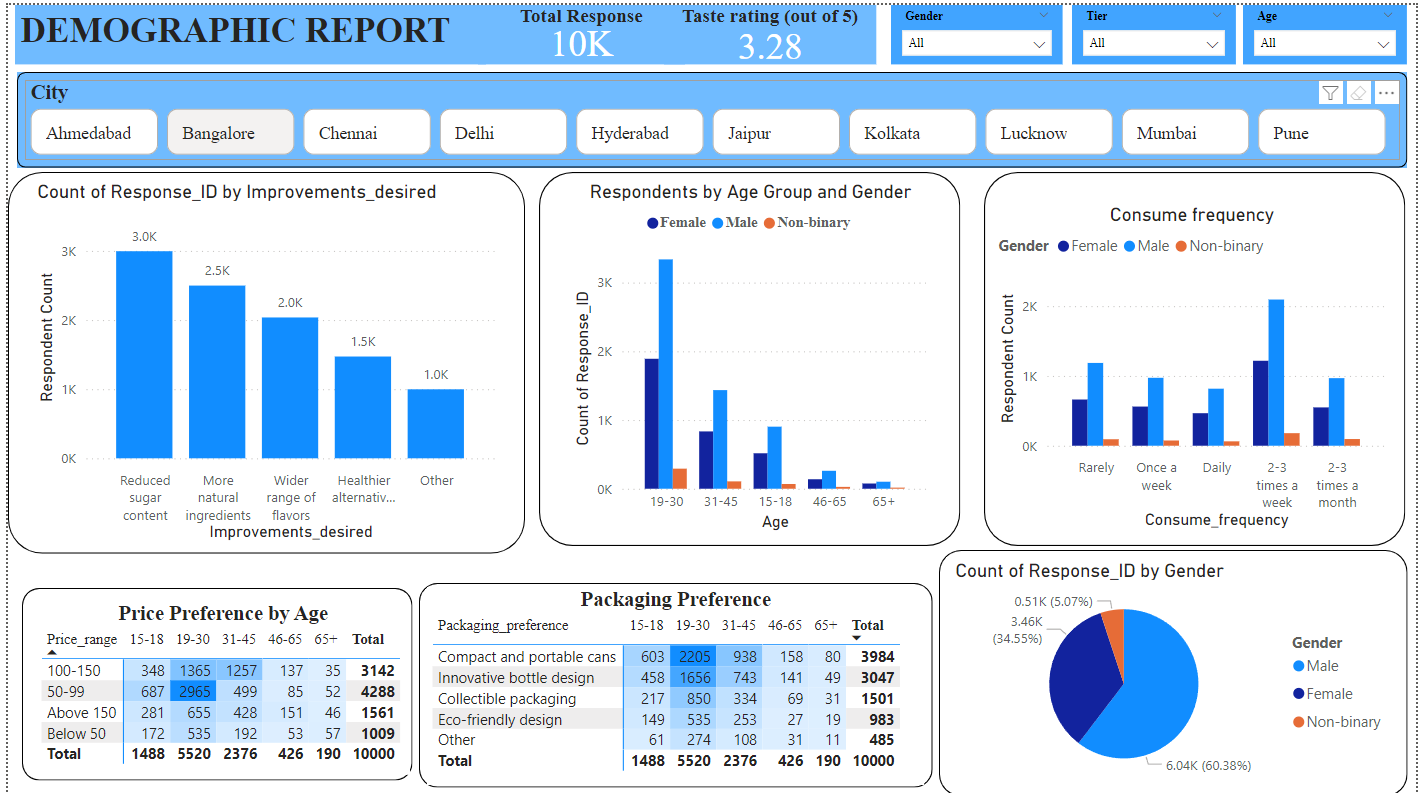

What the dashboard file says about the page in this screenshot:
{"tool":"powerbi","page":{"name":"Page 1","canvas":[1280,720],"ordinal":0},"visuals":[{"type":"textbox","box":[6,0,428,54],"z":0},{"type":"shape","box":[8,61,1264,87],"z":0,"group":"g7"},{"type":"shape","box":[0,152,470,347],"z":0,"group":"g6"},{"type":"shape","box":[887,152,383,340],"z":0,"group":"g2"},{"type":"pieChart","fields":{"Category":["dim_repondents.Gender"],"Y":["CountNonNull(fact_survey_responses.Response_ID)"]},"box":[856,504,406,208],"z":0,"group":"g1"},{"type":"slicer","fields":{"Values":["dim_cities.Tier"]},"box":[967,0,149,54],"z":1000},{"type":"advancedSlicerVisual","fields":{"Values":["dim_cities.City"]},"box":[15,68,1250,73],"z":1000,"group":"g7"},{"type":"shape","box":[483,152,383,340],"z":1000,"group":"g3"},{"type":"columnChart","fields":{"Category":["fact_survey_responses.Improvements_desired"],"Y":["CountNonNull(fact_survey_responses.Response_ID)"]},"box":[22,159,426,333],"z":1000,"group":"g6"},{"type":"clusteredColumnChart","title":"Consume frequency ","fields":{"Category":["fact_survey_responses.Consume_frequency"],"Y":["CountNonNull(dim_repondents.Age)"],"Series":["dim_repondents.Gender"]},"box":[895,180,362,301],"z":1000,"group":"g2"},{"type":"shape","box":[846,495.6,426,224],"z":1000,"group":"g1"},{"type":"shape","box":[373.5,525,467,186],"z":1000,"group":"g4"},{"type":"slicer","fields":{"Values":["dim_repondents.Age"]},"box":[1123,0,149,54],"z":2000},{"type":"pivotTable","title":"Packaging Preference","fields":{"Rows":["fact_survey_responses.Packaging_preference"],"Values":["CountNonNull(fact_survey_responses.Response_ID)"],"Columns":["dim_repondents.Age"]},"box":[381,528.4,452.2,180],"z":2000,"group":"g4"},{"type":"slicer","fields":{"Values":["dim_repondents.Gender"]},"box":[803,0,156,54],"z":3000},{"type":"clusteredColumnChart","title":"Respondents by Age Group and Gender","fields":{"Category":["dim_repondents.Age"],"Y":["CountNonNull(fact_survey_responses.Response_ID)"],"Series":["dim_repondents.Gender"]},"box":[509,159,332,324],"z":3000,"group":"g3"},{"type":"card","title":"Total Response","fields":{"Values":["CountNonNull(fact_survey_responses.Response_ID)"]},"box":[427,0,188,54],"z":4000},{"type":"shape","box":[13,530,355,175],"z":4000,"group":"g5"},{"type":"card","title":"Taste rating (out of 5)","fields":{"Values":["dim_cities.Measure"]},"box":[596,0,193,54],"z":5000},{"type":"group","id":"g1","title":"Group 3","box":[846,495.6,426,224],"z":6000},{"type":"group","id":"g2","title":"Group 1","box":[887,152,383,340],"z":7000},{"type":"group","id":"g3","title":"Group 1","box":[483,152,383,340],"z":8000},{"type":"pivotTable","title":"Price Preference by Age","fields":{"Rows":["fact_survey_responses.Price_range"],"Columns":["dim_repondents.Age"],"Values":["CountNonNull(fact_survey_responses.Response_ID)"]},"box":[26,542,340,158],"z":8000,"group":"g5"},{"type":"group","id":"g4","title":"Group 1","box":[373.5,525,467,186],"z":9000},{"type":"group","id":"g5","title":"Group 1","box":[13,530,355,175],"z":10000},{"type":"group","id":"g6","title":"Group 1","box":[0,152,470,347],"z":11000},{"type":"group","id":"g7","title":"Group 1","box":[8,61,1264,87],"z":11001}]}

Visuals, with their boxes in screenshot pixels (x1, y1, x2, y2), scaled from the page's 1280x720 canvas onto the 1428x793 screenshot:
textbox: region(7, 0, 484, 59)
shape: region(9, 67, 1419, 163)
shape: region(0, 167, 524, 550)
shape: region(990, 167, 1417, 542)
pieChart - dim_repondents.Gender x CountNonNull(fact_survey_responses.Response_ID): region(955, 555, 1408, 784)
slicer - dim_cities.Tier: region(1079, 0, 1245, 59)
advancedSlicerVisual - dim_cities.City: region(17, 75, 1411, 155)
shape: region(539, 167, 966, 542)
columnChart - fact_survey_responses.Improvements_desired x CountNonNull(fact_survey_responses.Response_ID): region(25, 175, 500, 542)
"Consume frequency " clusteredColumnChart: region(998, 198, 1402, 530)
shape: region(944, 546, 1419, 792)
shape: region(417, 578, 938, 783)
slicer - dim_repondents.Age: region(1253, 0, 1419, 59)
"Packaging Preference" pivotTable: region(425, 582, 930, 780)
slicer - dim_repondents.Gender: region(896, 0, 1070, 59)
"Respondents by Age Group and Gender" clusteredColumnChart: region(568, 175, 938, 532)
"Total Response" card: region(476, 0, 686, 59)
shape: region(15, 584, 411, 776)
"Taste rating (out of 5)" card: region(665, 0, 880, 59)
"Group 3" group: region(944, 546, 1419, 792)
"Group 1" group: region(990, 167, 1417, 542)
"Group 1" group: region(539, 167, 966, 542)
"Price Preference by Age" pivotTable: region(29, 597, 408, 771)
"Group 1" group: region(417, 578, 938, 783)
"Group 1" group: region(15, 584, 411, 776)
"Group 1" group: region(0, 167, 524, 550)
"Group 1" group: region(9, 67, 1419, 163)
